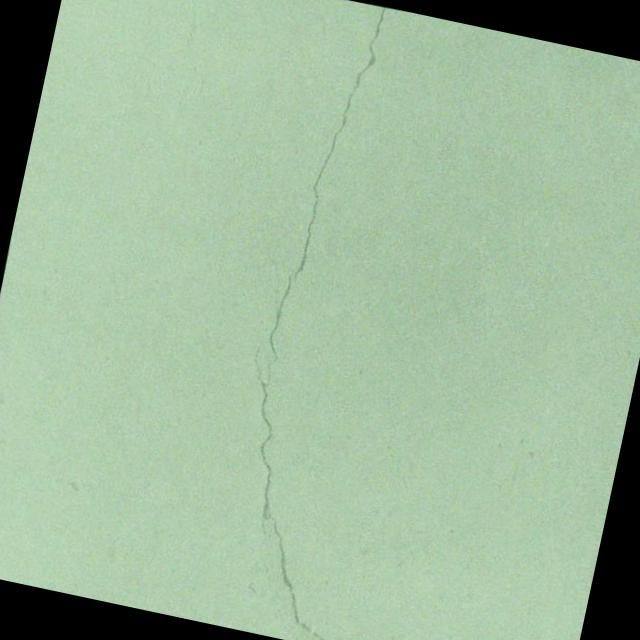crack: (184, 0, 457, 640)
